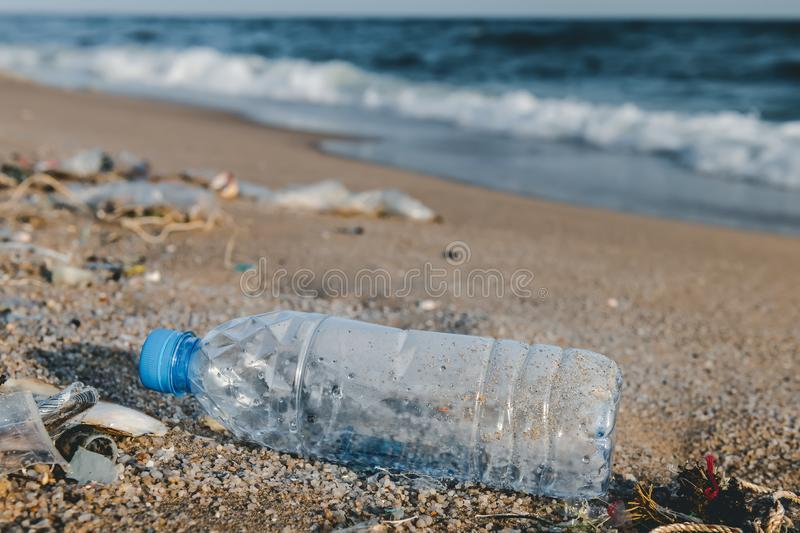bottle: (133, 296, 632, 524)
